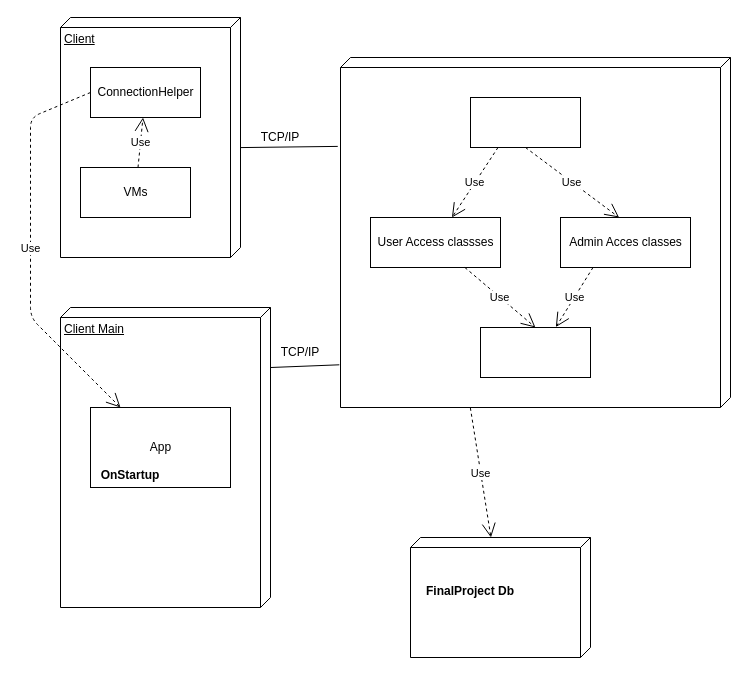
The diagram is 748 pixels wide and 675 high, and some of its shapes have lost their labels. Each missing label, with the box of its shape:
Connection: (470, 96, 580, 148)
Db: (410, 536, 590, 658)
Repository (DbAccess): (480, 326, 590, 378)
Server: (340, 56, 730, 408)
